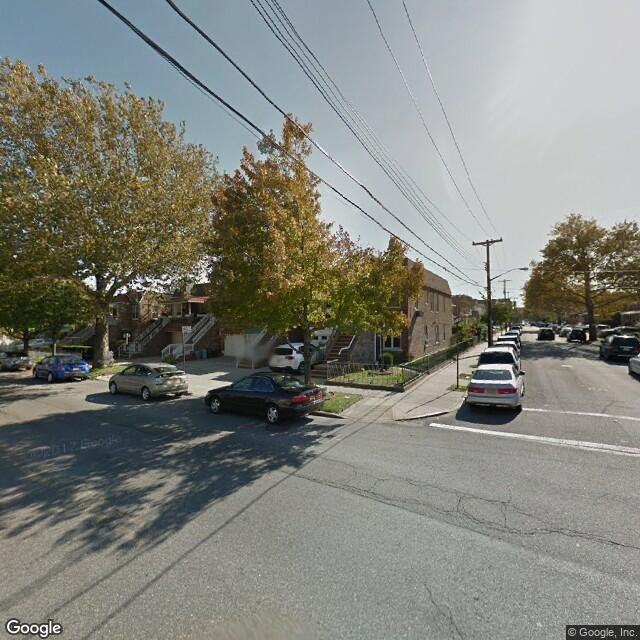litter: (343, 394, 350, 399)
